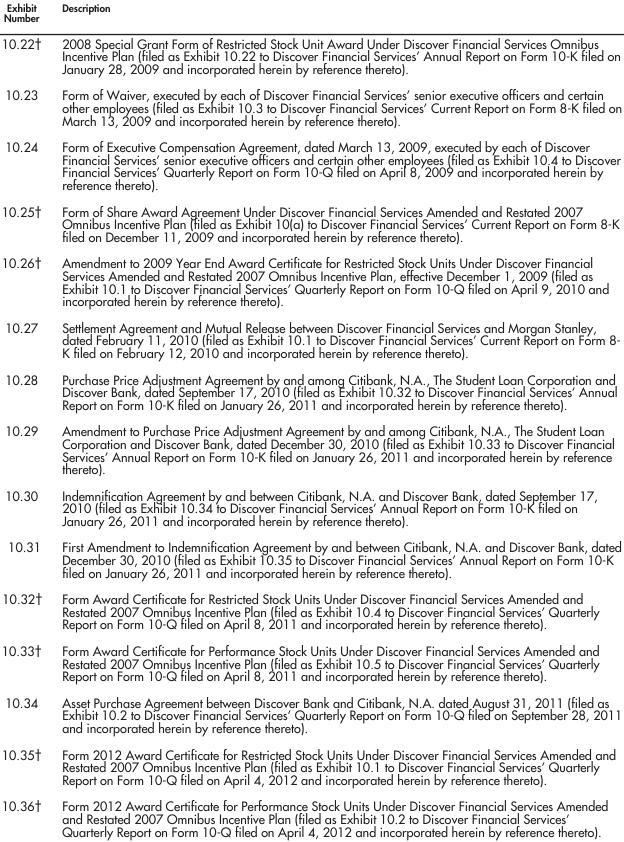table: (0, 0, 621, 838)
table column: (51, 0, 621, 838), (0, 0, 51, 838)
table column header: (0, 0, 621, 29)
table row: (0, 133, 621, 197), (0, 249, 621, 313), (0, 417, 621, 481), (0, 29, 621, 81), (0, 81, 621, 133), (0, 197, 621, 249), (0, 313, 621, 365), (0, 365, 621, 417), (0, 481, 621, 533), (0, 533, 621, 585), (0, 636, 621, 688), (0, 688, 621, 740), (0, 740, 621, 792), (0, 585, 621, 636), (0, 792, 621, 838), (0, 0, 621, 29)
